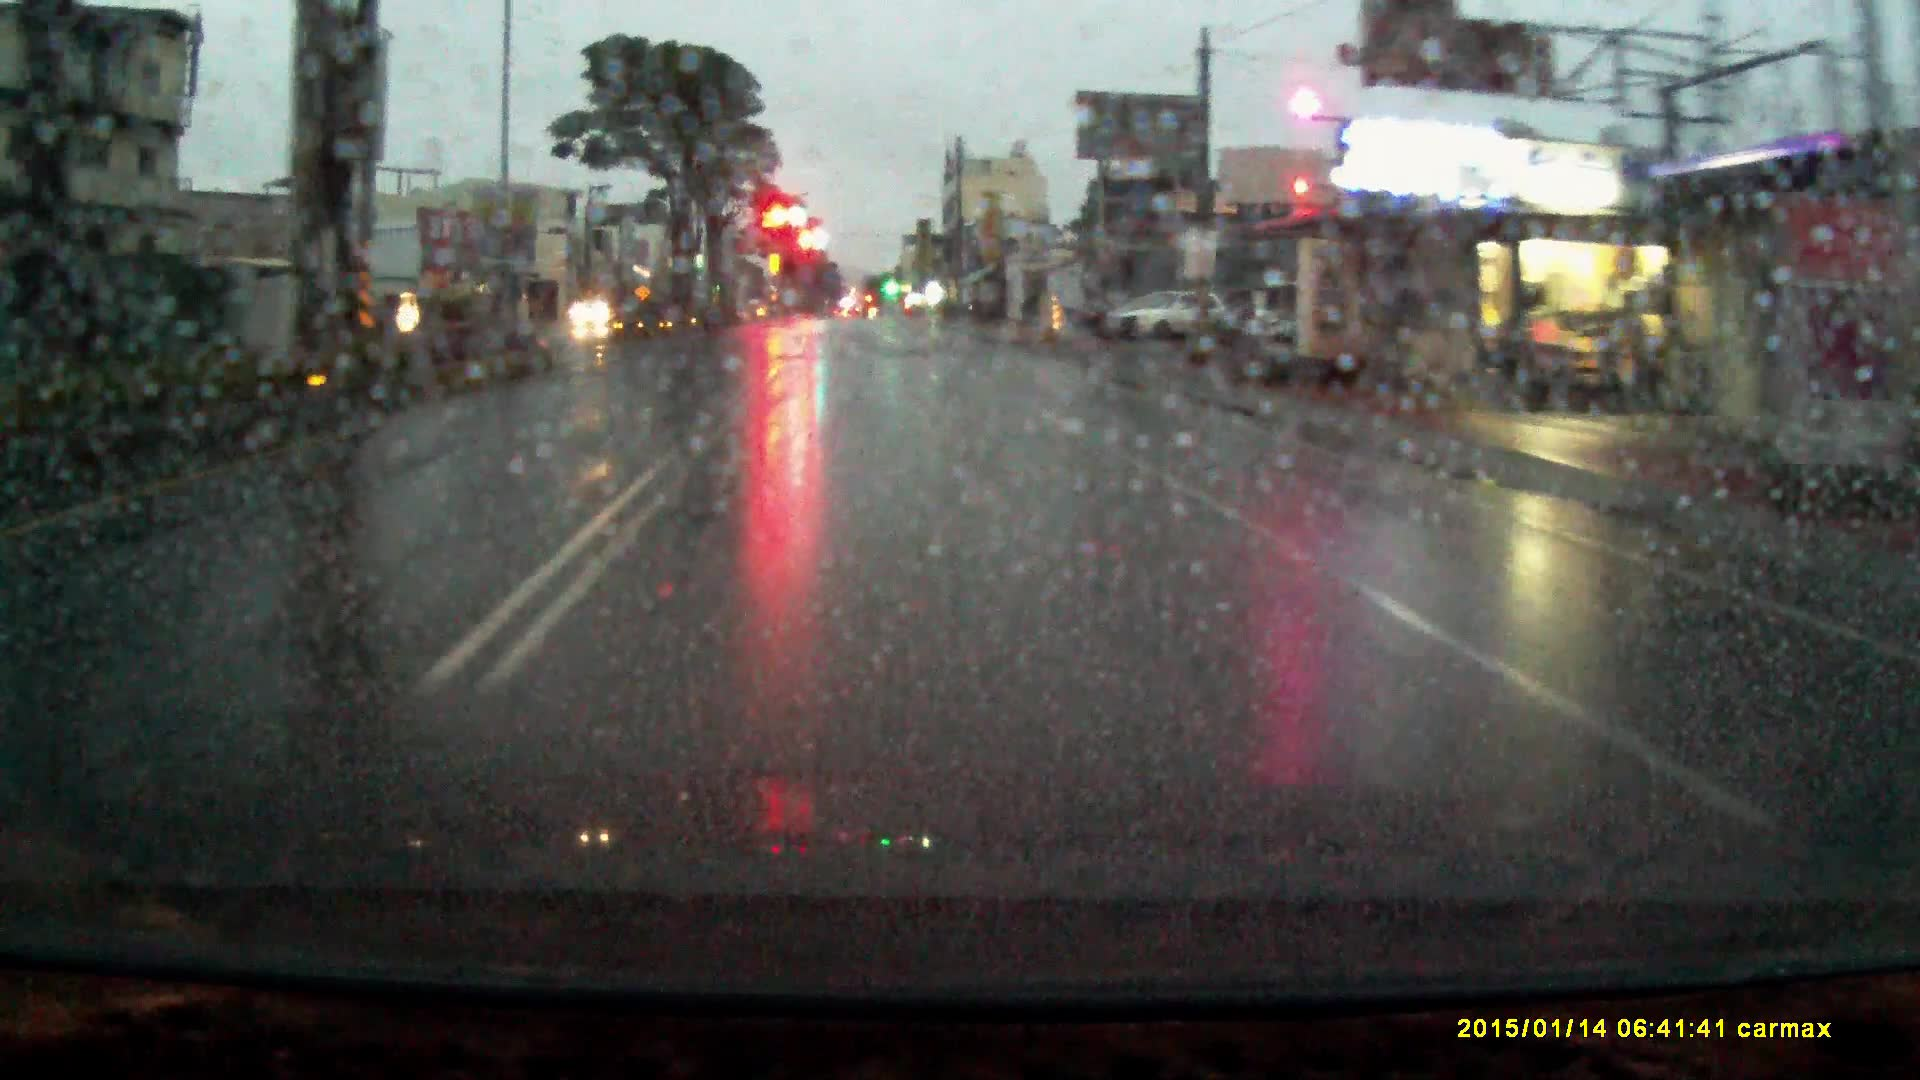vehicle: (1113, 284, 1234, 342), (568, 294, 617, 328)
